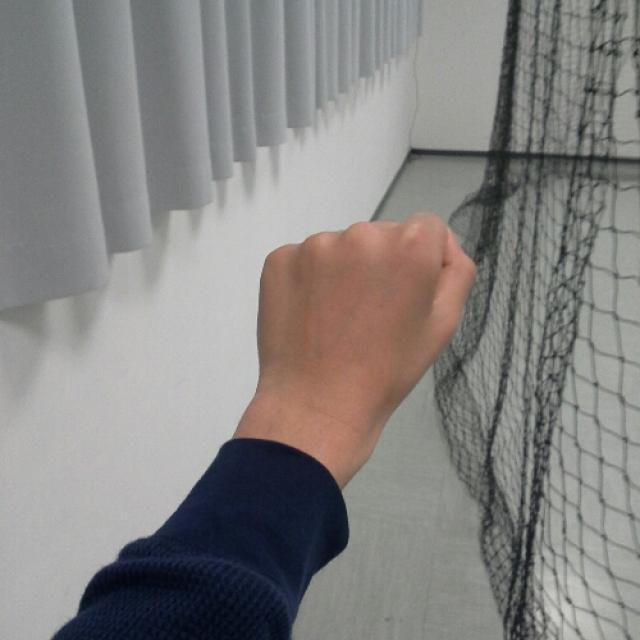fist: (255, 210, 481, 410)
